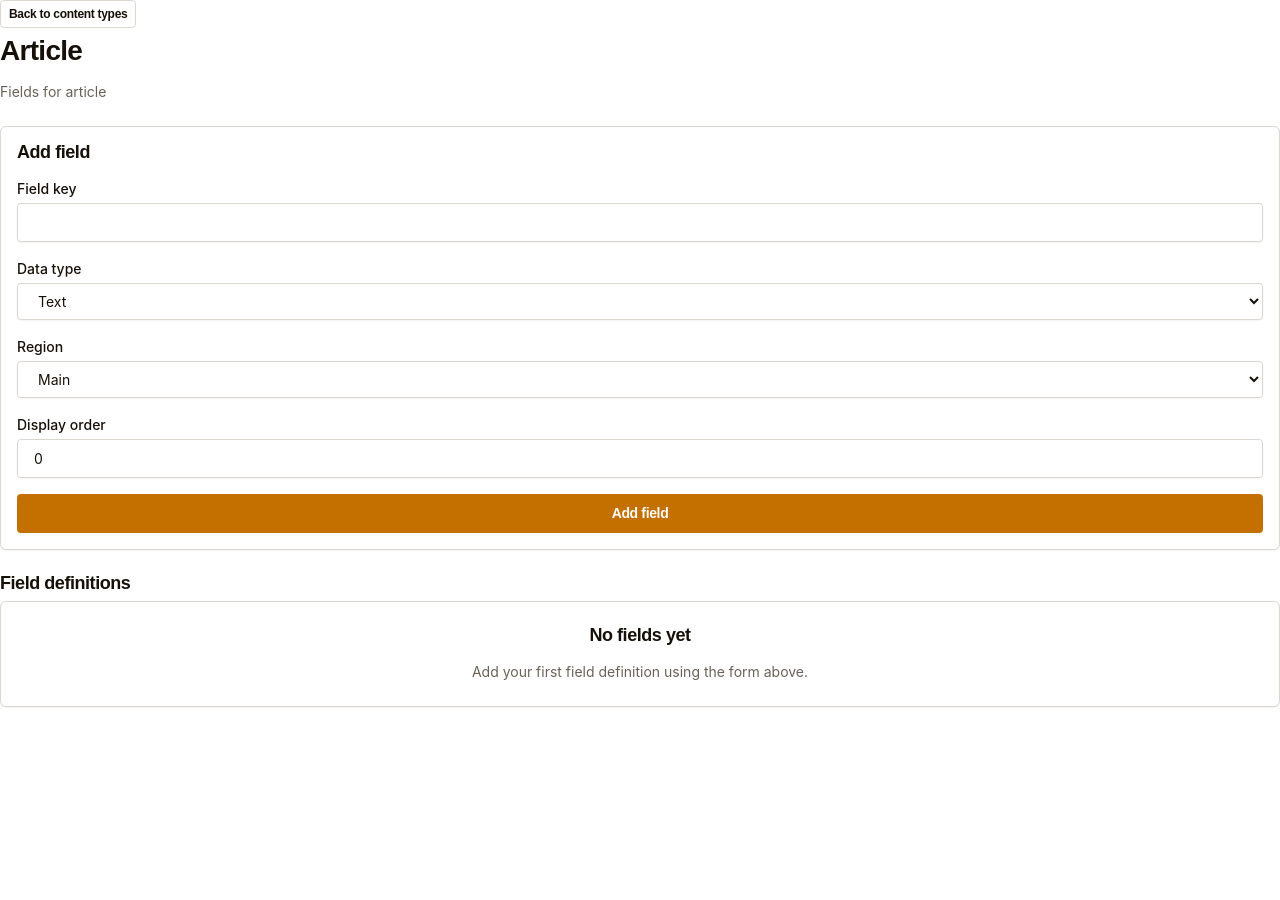
FieldDefsPage › deletes a field definition after confirmation
Type "body" into the field labelled "Field key" at (640, 223), box top-left (17, 203), bottom-right (1263, 242)
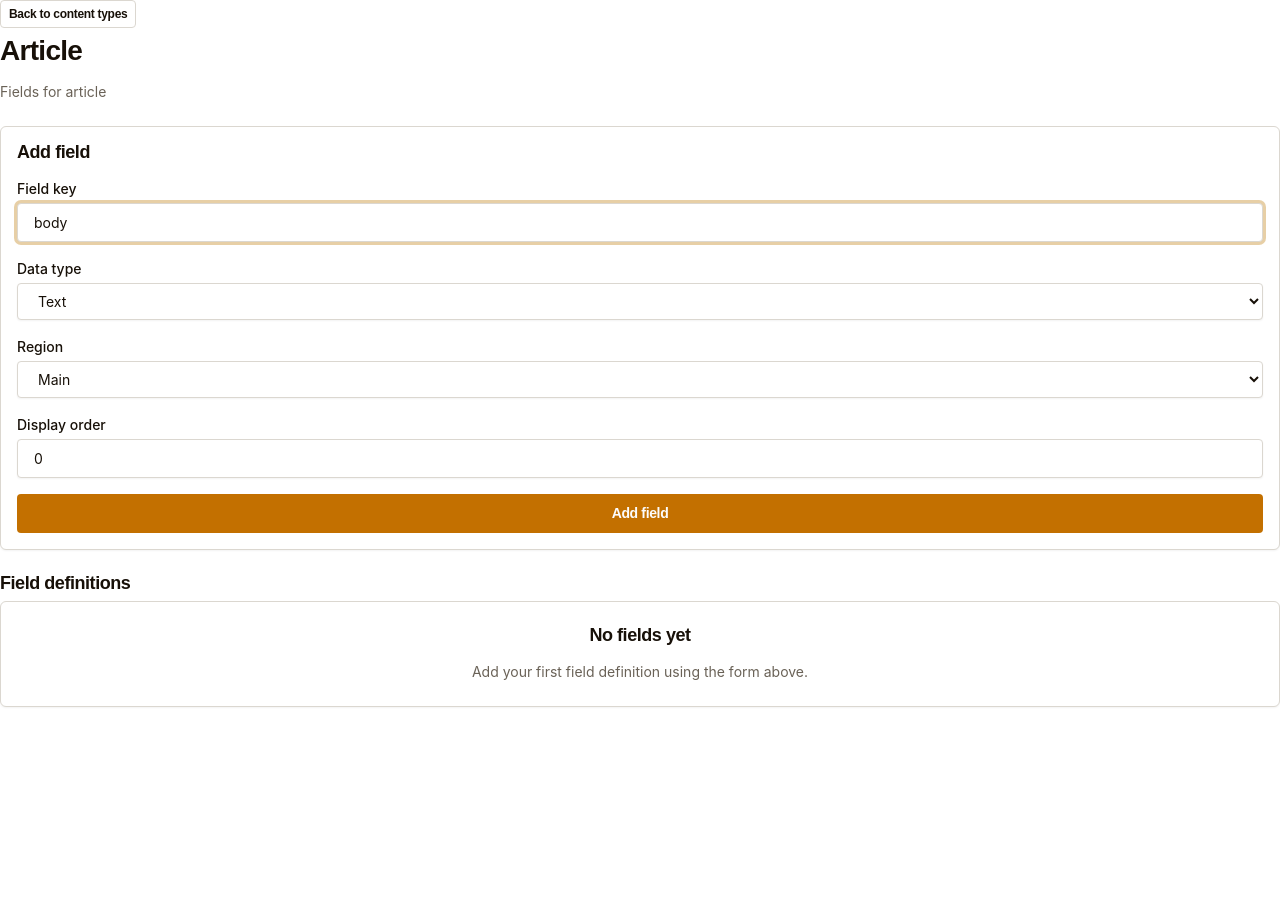
Click the button "Add field" at (640, 514), box top-left (17, 494), bottom-right (1263, 533)
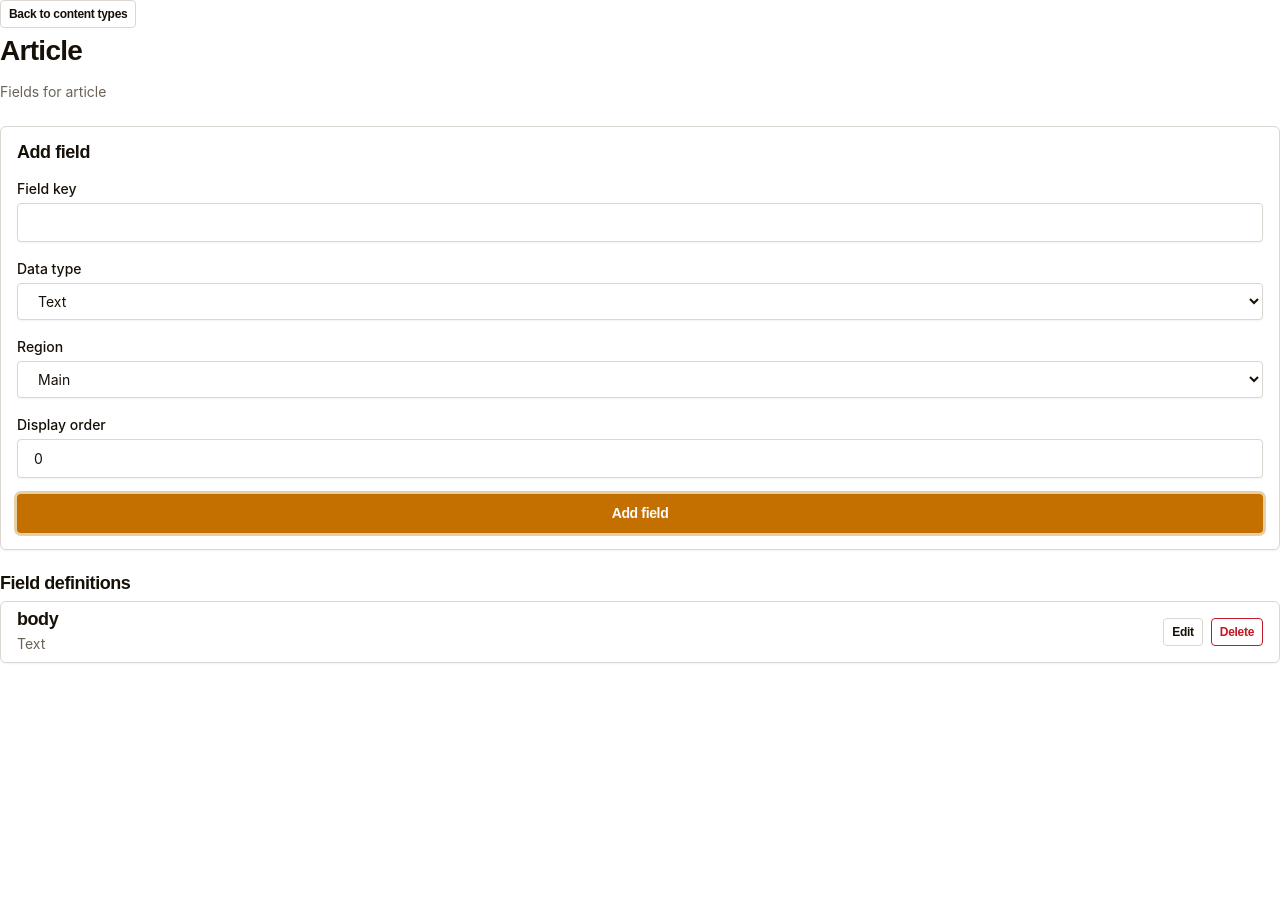
Expected: the text "body" is shown, top-left (17, 610), bottom-right (58, 629)
Click the button "Delete" at (1237, 632), box top-left (1211, 618), bottom-right (1263, 646)
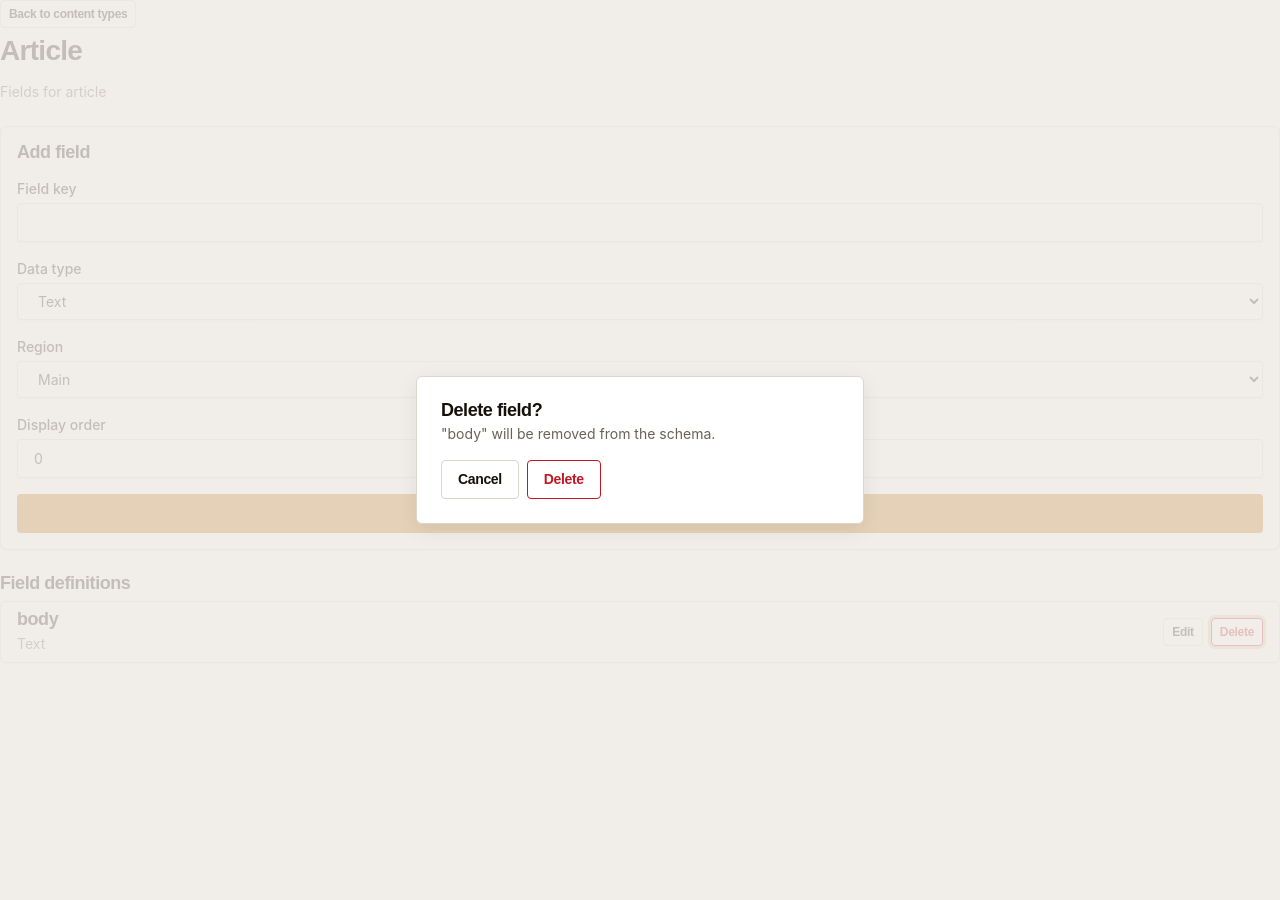
Expected: the dialog is shown, top-left (416, 376), bottom-right (864, 524)
Click the button "Delete" at (564, 480), box top-left (527, 460), bottom-right (601, 499)
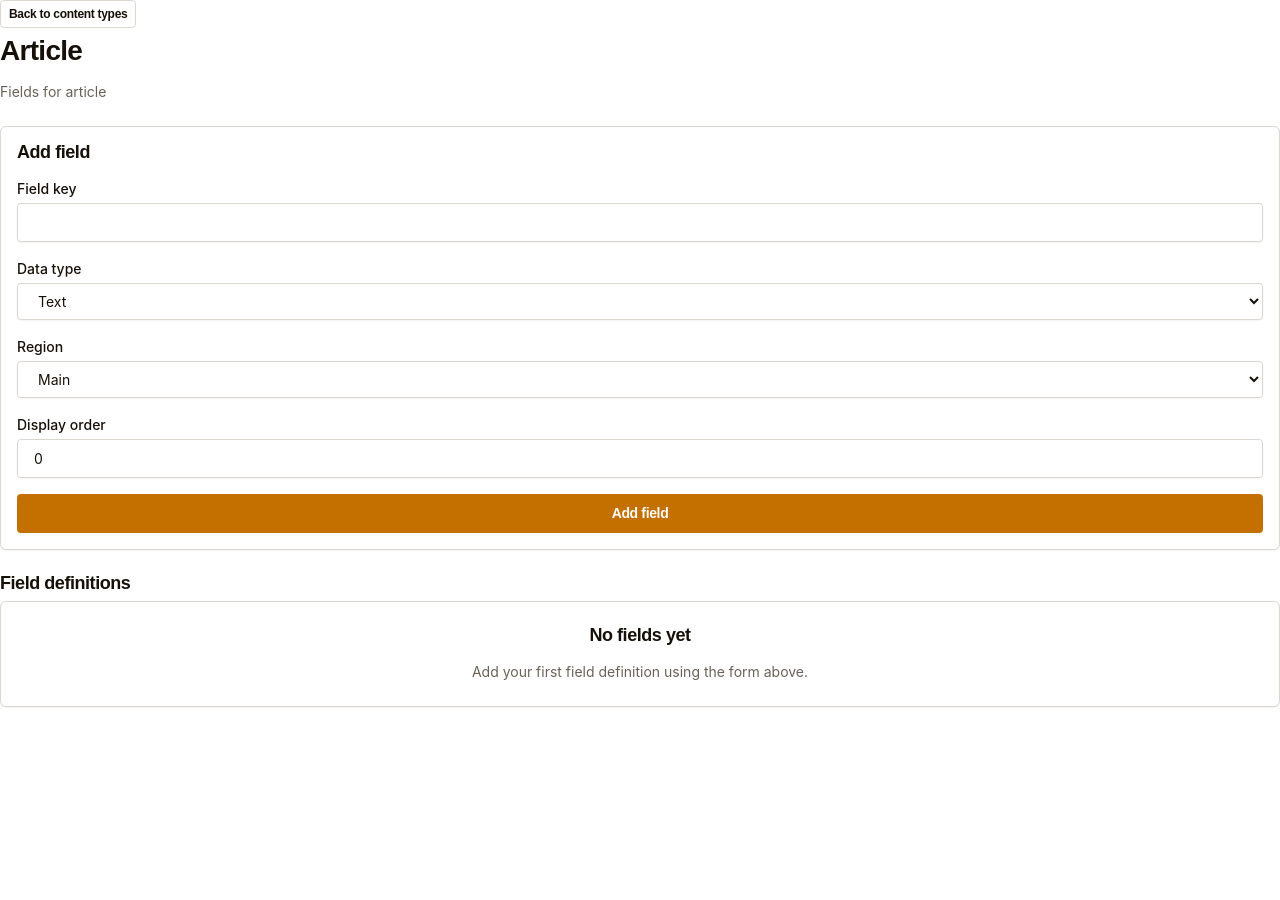
Expected: the text "body" is gone
Expected: the heading "No fields yet" is shown, top-left (589, 626), bottom-right (691, 645)
